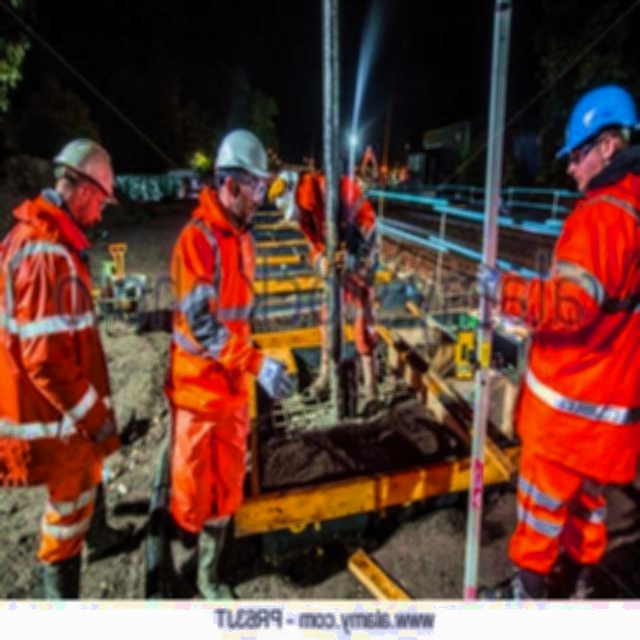Con_Casco: (560, 80, 638, 177), (52, 140, 117, 227), (213, 129, 273, 207)
Con_Chaleco: (519, 179, 640, 465), (168, 213, 250, 399)
